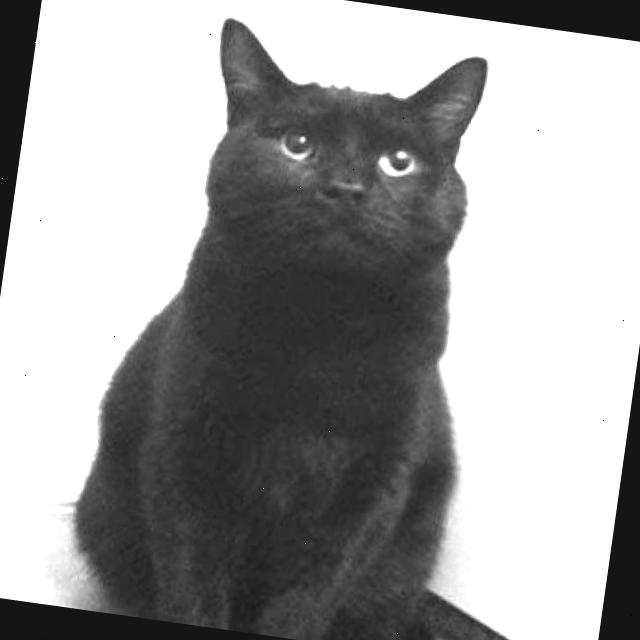bombay_cat: (166, 4, 504, 320)
